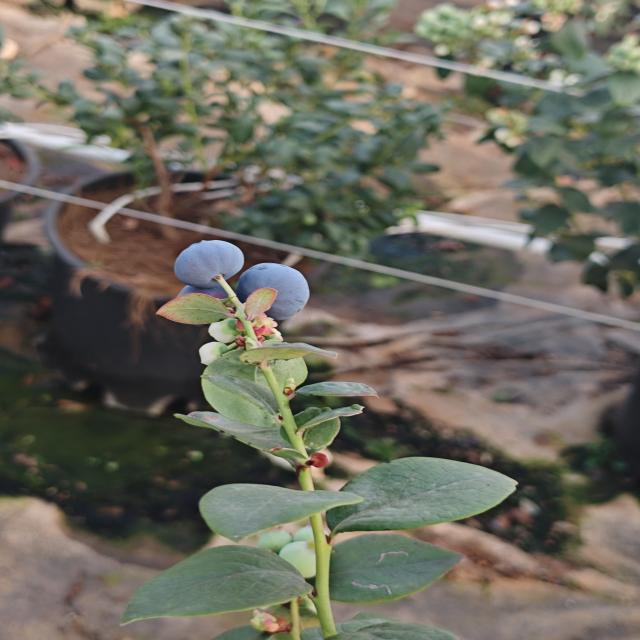ripe: (241, 255, 323, 317), (160, 236, 250, 286), (171, 274, 240, 319)
